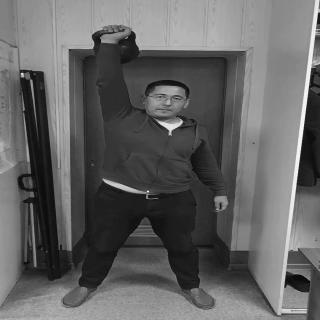kettlebell: (90, 29, 144, 65)
